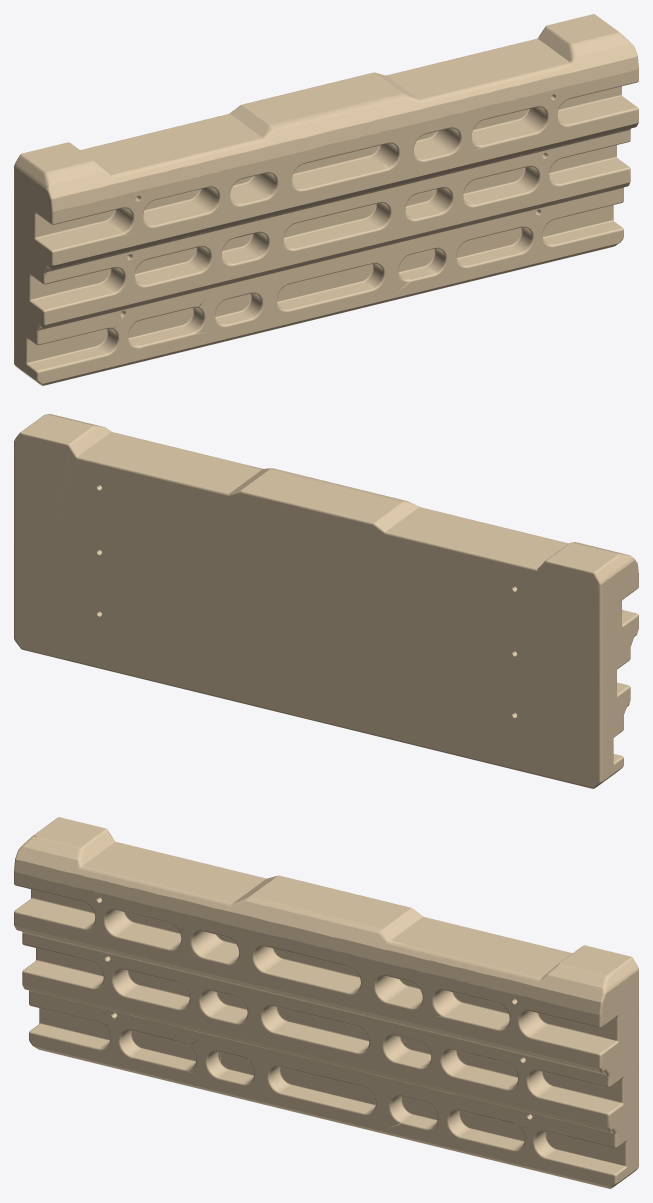
Rendered from metolius-wood-grips-ii-deluxe.glb.
The picture shows the model from 3 angles, top to bottom: view 1: azimuth 30°, elevation 25°; view 2: azimuth 150°, elevation 25°; view 3: azimuth 330°, elevation 25°; orthographic projection.
Visible parts, largest first — view 1: body, hold-12-round-stopper-centre, hold-02-flat-stopper-right, hold-02-flat-stopper-left, hold-01-jug-left, hold-01-jug-right, hold-14-four-finger-centre, hold-13-four-finger-centre, hold-15-four-finger-centre, hold-03-edge-left, hold-06-edge-left, hold-09-edge-left (+15 smaller); view 2: body, hold-12-round-stopper-centre, hold-02-flat-stopper-right, hold-02-flat-stopper-left, hold-01-jug-left, hold-01-jug-right; view 3: body, hold-12-round-stopper-centre, hold-02-flat-stopper-right, hold-02-flat-stopper-left, hold-01-jug-right, hold-01-jug-left, hold-14-four-finger-centre, hold-13-four-finger-centre, hold-15-four-finger-centre, hold-03-edge-right, hold-06-edge-right, hold-09-edge-right (+15 smaller).
Boxes of the visible parts, <box> form: body: <box>14,36,638,385</box>; hold-12-round-stopper-centre: <box>231,72,421,149</box>; hold-02-flat-stopper-right: <box>385,38,573,122</box>; hold-02-flat-stopper-left: <box>80,113,266,194</box>; hold-01-jug-left: <box>14,142,119,214</box>; hold-01-jug-right: <box>538,14,638,85</box>; hold-14-four-finger-centre: <box>283,201,392,251</box>; hold-13-four-finger-centre: <box>291,142,400,191</box>; hold-15-four-finger-centre: <box>276,262,385,312</box>; hold-03-edge-left: <box>33,206,138,253</box>; hold-06-edge-left: <box>28,266,126,312</box>; hold-09-edge-left: <box>25,327,119,373</box>; body: <box>14,430,638,788</box>; hold-12-round-stopper-centre: <box>228,468,417,553</box>; hold-02-flat-stopper-right: <box>75,432,263,500</box>; hold-02-flat-stopper-left: <box>380,506,568,571</box>; hold-01-jug-left: <box>538,542,638,636</box>; hold-01-jug-right: <box>14,414,108,456</box>; body: <box>14,838,638,1188</box>; hold-12-round-stopper-centre: <box>218,875,422,949</box>; hold-02-flat-stopper-right: <box>355,916,572,997</box>; hold-02-flat-stopper-left: <box>64,841,266,910</box>; hold-01-jug-right: <box>532,945,638,1018</box>; hold-01-jug-left: <box>14,817,113,886</box>; hold-14-four-finger-centre: <box>260,1004,370,1054</box>; hold-13-four-finger-centre: <box>252,945,361,994</box>; hold-15-four-finger-centre: <box>267,1065,376,1115</box>; hold-03-edge-right: <box>518,1009,619,1056</box>; hold-06-edge-right: <box>524,1066,624,1115</box>; hold-09-edge-right: <box>531,1126,627,1176</box>.
Bounding box in the file's own units: 0.6088 × 0.2148 × 0.07.
